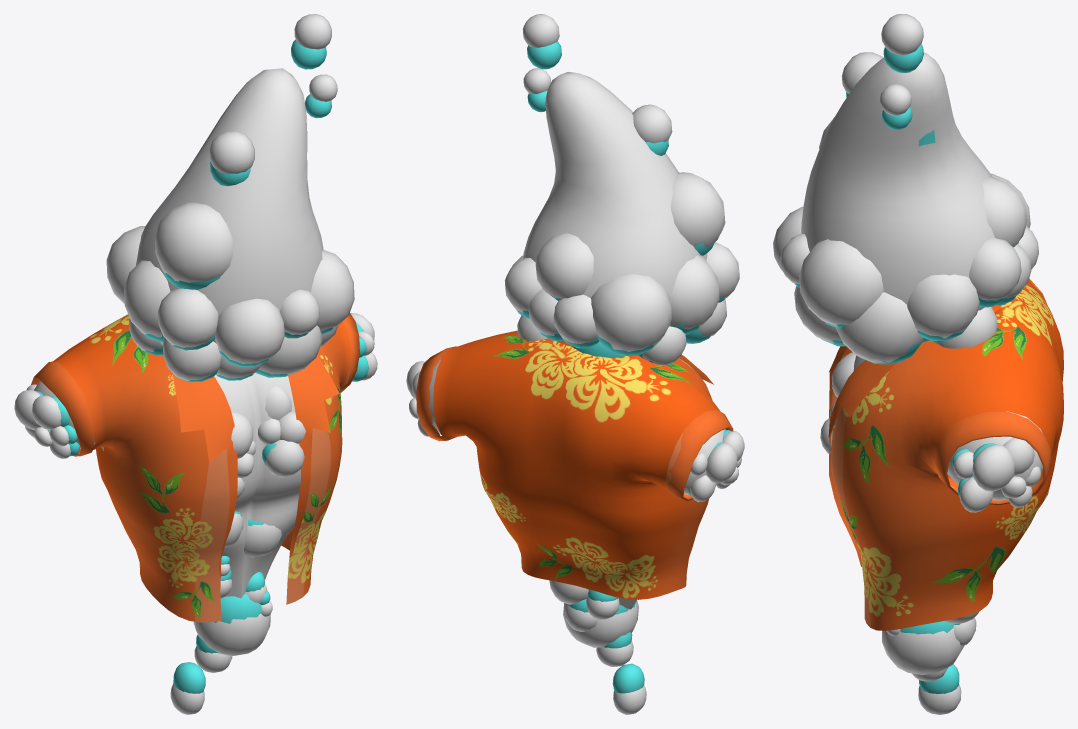
File: jefe jam.fbx
3 renders of one model, left to right at view 1: azimuth 30°, elevation 25°; view 2: azimuth 150°, elevation 25°; view 3: azimuth 270°, elevation 25°, orthographic. The views are drawn at different scales.
Visible parts, largest first — view 1: Jefe; view 2: Jefe; view 3: Jefe.
Part boxes in pixels (bbox=[...]): Jefe: bbox=[14, 14, 377, 714]; Jefe: bbox=[406, 14, 744, 714]; Jefe: bbox=[773, 14, 1063, 714].
Size of the model in its own units: 1039 by 1965 by 685.
3 materials, 1 textured.
